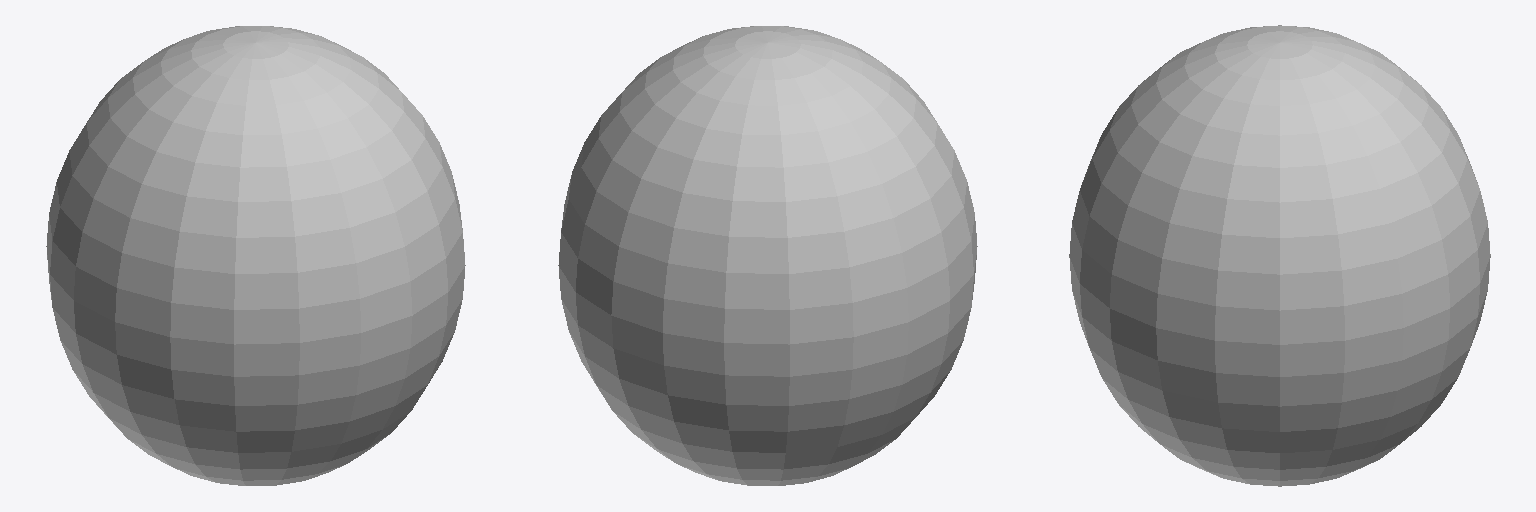
The model's file is InvertedSphere.obj.
3 views of the same model, side by side, from view 1: azimuth 30°, elevation 25°; view 2: azimuth 150°, elevation 25°; view 3: azimuth 270°, elevation 25° (orthographic).
Parts seen in each view (by area): view 1: pSphere1; view 2: pSphere1; view 3: pSphere1.
Part boxes in pixels (bbox=[...]): pSphere1: bbox=[46, 26, 465, 485]; pSphere1: bbox=[558, 26, 977, 485]; pSphere1: bbox=[1069, 25, 1490, 486].
Size of the model in its own units: 17.53 by 19.59 by 17.53.